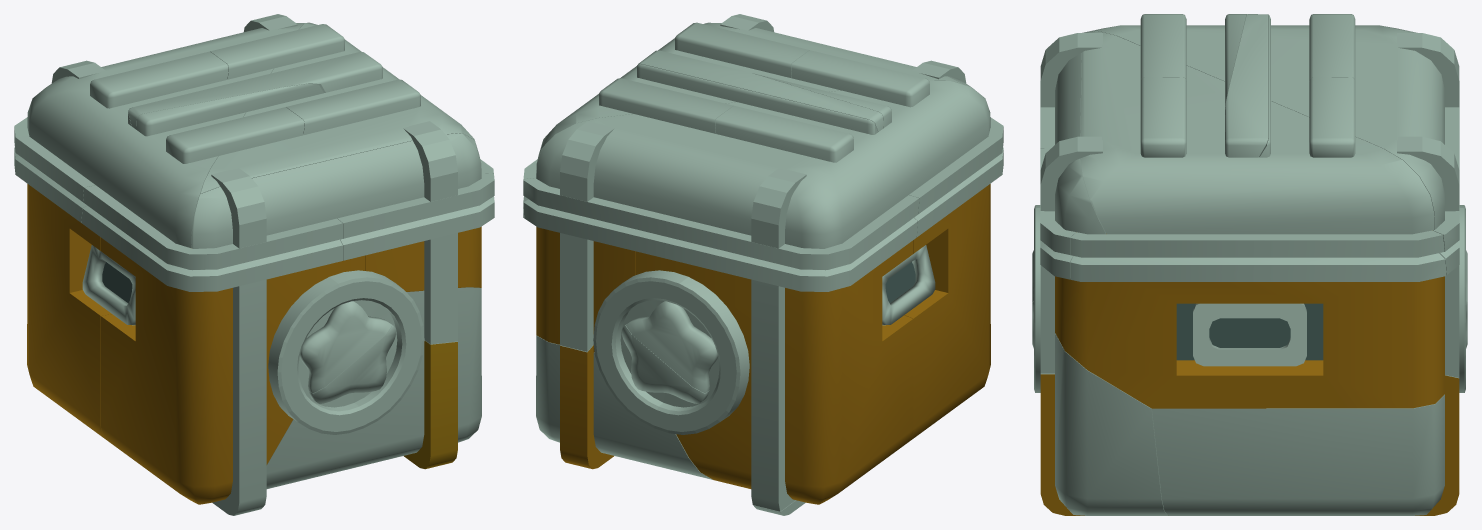
File: FracturedChest.fbx
The picture shows the model from 3 angles, left to right: view 1: azimuth 30°, elevation 25°; view 2: azimuth 150°, elevation 25°; view 3: azimuth 270°, elevation 25°; orthographic projection. The views are drawn at different scales.
Visible parts, largest first — view 1: ChestFractured.001_cell, ChestFractured.001_cell.002, ChestFractured.001_cell.006, ChestFractured.001_cell.003, ChestFractured.003_cell.007, ChestFractured.001_cell.005, ChestFractured.001_cell.001, ChestFractured.001_cell.009, ChestFractured.003, ChestFractured.003_cell.005, ChestFractured.004, ChestFractured.158_cell.019 (+16 smaller); view 2: ChestFractured.001_cell.002, ChestFractured.001_cell.006, ChestFractured.003_cell.004, ChestFractured.001_cell, ChestFractured.001_cell.010, ChestFractured.001_cell.004, ChestFractured.002, ChestFractured.005, ChestFractured.001_cell.007, ChestFractured.001_cell.001, ChestFractured.003_cell.007, ChestFractured.003_cell.002 (+15 smaller); view 3: ChestFractured.001_cell.007, ChestFractured.001_cell.001, ChestFractured.001_cell.004, ChestFractured.003_cell.006, ChestFractured.001_cell.002, ChestFractured.001_cell.005, ChestFractured.158_cell.019, ChestFractured.158_cell.005, ChestFractured.011_cell.002, ChestFractured.001_cell.003, ChestFractured.158_cell.010, ChestFractured.158_cell.035 (+15 smaller).
Part boxes in pixels (bbox=[...]): ChestFractured.001_cell: bbox=[100, 237, 365, 504]; ChestFractured.001_cell.002: bbox=[27, 22, 309, 247]; ChestFractured.001_cell.006: bbox=[27, 184, 132, 438]; ChestFractured.001_cell.003: bbox=[191, 133, 481, 248]; ChestFractured.003_cell.007: bbox=[81, 185, 342, 291]; ChestFractured.001_cell.005: bbox=[266, 287, 481, 488]; ChestFractured.001_cell.001: bbox=[200, 23, 474, 193]; ChestFractured.001_cell.009: bbox=[212, 279, 266, 515]; ChestFractured.003: bbox=[268, 277, 363, 434]; ChestFractured.003_cell.005: bbox=[337, 173, 494, 260]; ChestFractured.004: bbox=[329, 270, 424, 427]; ChestFractured.158_cell.019: bbox=[128, 51, 382, 129]; ChestFractured.001_cell.002: bbox=[536, 80, 990, 248]; ChestFractured.001_cell.006: bbox=[636, 240, 913, 504]; ChestFractured.003_cell.004: bbox=[523, 178, 919, 291]; ChestFractured.001_cell: bbox=[889, 184, 990, 440]; ChestFractured.001_cell.010: bbox=[751, 279, 795, 511]; ChestFractured.001_cell.004: bbox=[536, 335, 712, 479]; ChestFractured.002: bbox=[654, 277, 749, 434]; ChestFractured.005: bbox=[593, 270, 688, 427]; ChestFractured.001_cell.007: bbox=[536, 226, 635, 352]; ChestFractured.001_cell.001: bbox=[536, 22, 964, 172]; ChestFractured.003_cell.007: bbox=[909, 117, 1003, 237]; ChestFractured.003_cell.002: bbox=[625, 301, 718, 393]; ChestFractured.001_cell.007: bbox=[1055, 276, 1444, 408]; ChestFractured.001_cell.001: bbox=[1080, 31, 1434, 234]; ChestFractured.001_cell.004: bbox=[1152, 394, 1444, 515]; ChestFractured.003_cell.006: bbox=[1070, 230, 1446, 281]; ChestFractured.001_cell.002: bbox=[1082, 25, 1444, 229]; ChestFractured.001_cell.005: bbox=[1055, 333, 1168, 515]; ChestFractured.158_cell.019: bbox=[1225, 14, 1268, 157]; ChestFractured.158_cell.005: bbox=[1193, 303, 1306, 366]; ChestFractured.011_cell.002: bbox=[1040, 373, 1459, 515]; ChestFractured.001_cell.003: bbox=[1055, 32, 1105, 234]; ChestFractured.158_cell.010: bbox=[1140, 77, 1186, 157]; ChestFractured.158_cell.035: bbox=[1309, 77, 1355, 157].
Size of the model in its own units: 215 by 215 by 223.
